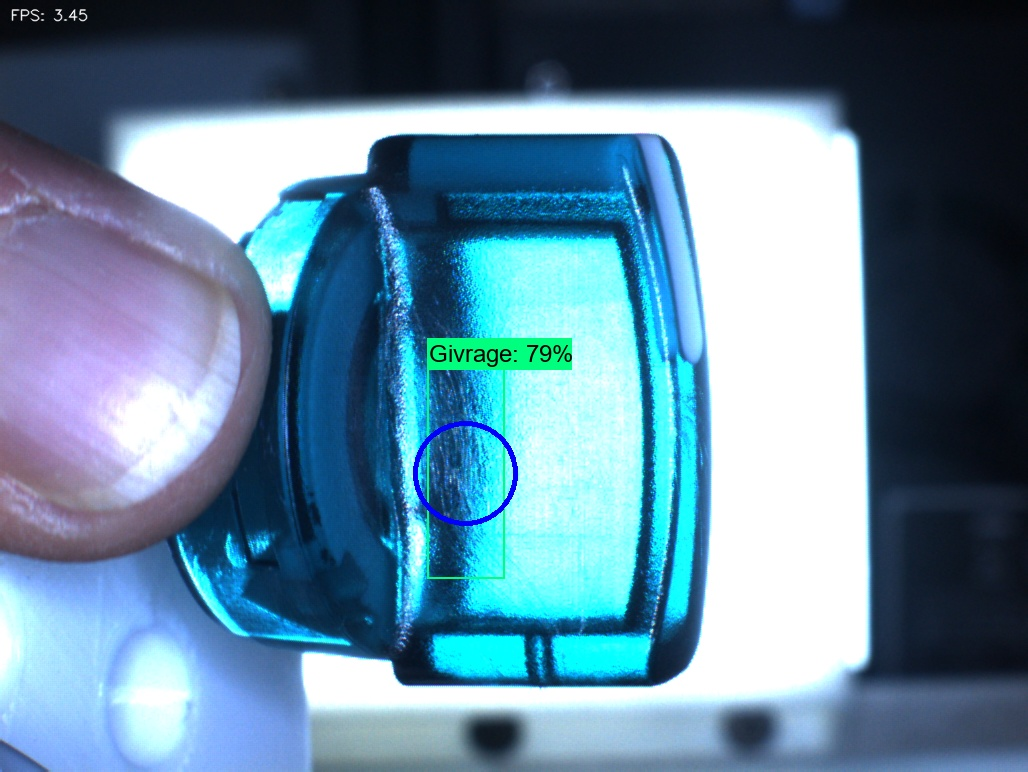Bulle: (494, 603, 591, 702)
